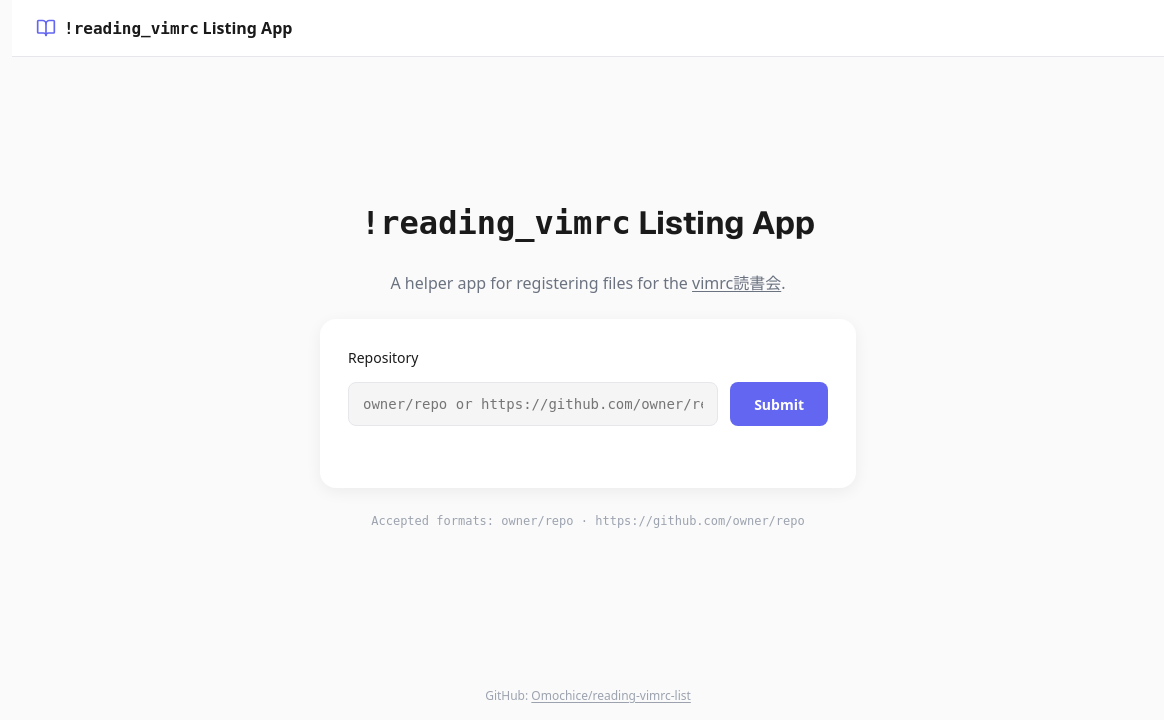
Test case: App › transitions to FileTreeView after valid URL submission
The width and height of the screenshot is (1164, 720).
Step 1. Type "https://github.com/owner/repo" into the field → (533, 404), box [348, 382, 718, 426]
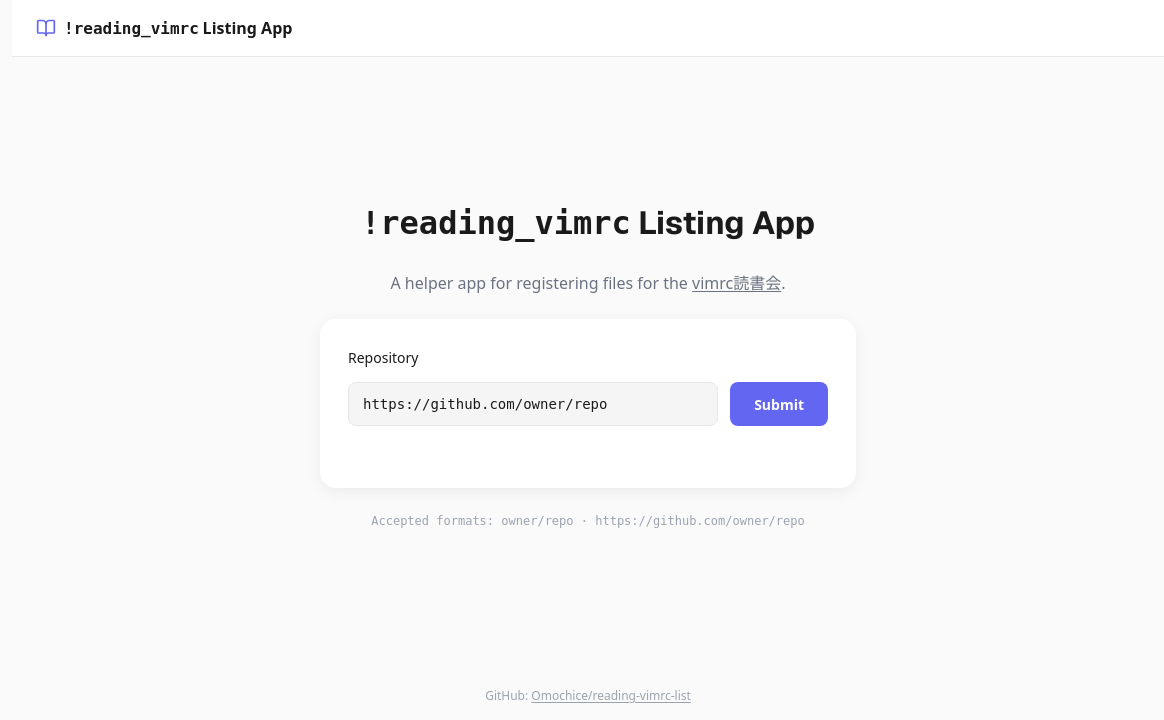
Step 2. Click the button "Submit" → (779, 404), box [730, 382, 828, 426]
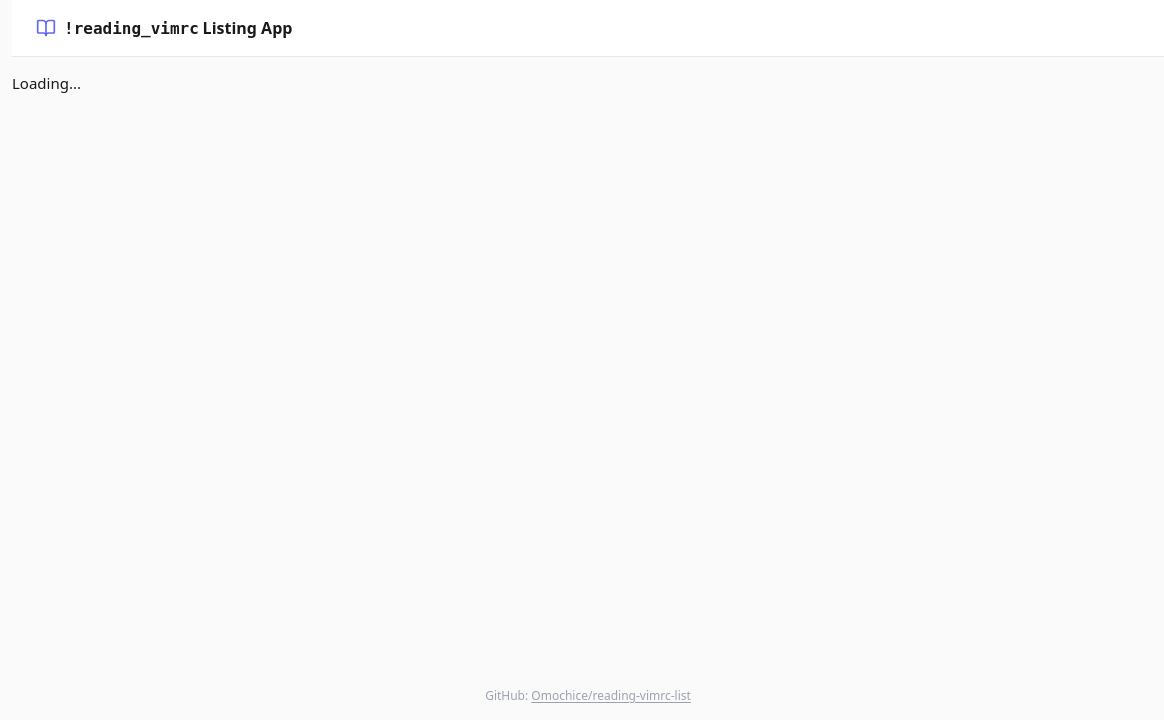
Expected: the text "Loading..." is shown, [12, 73, 81, 93]
Expected: the field is gone
